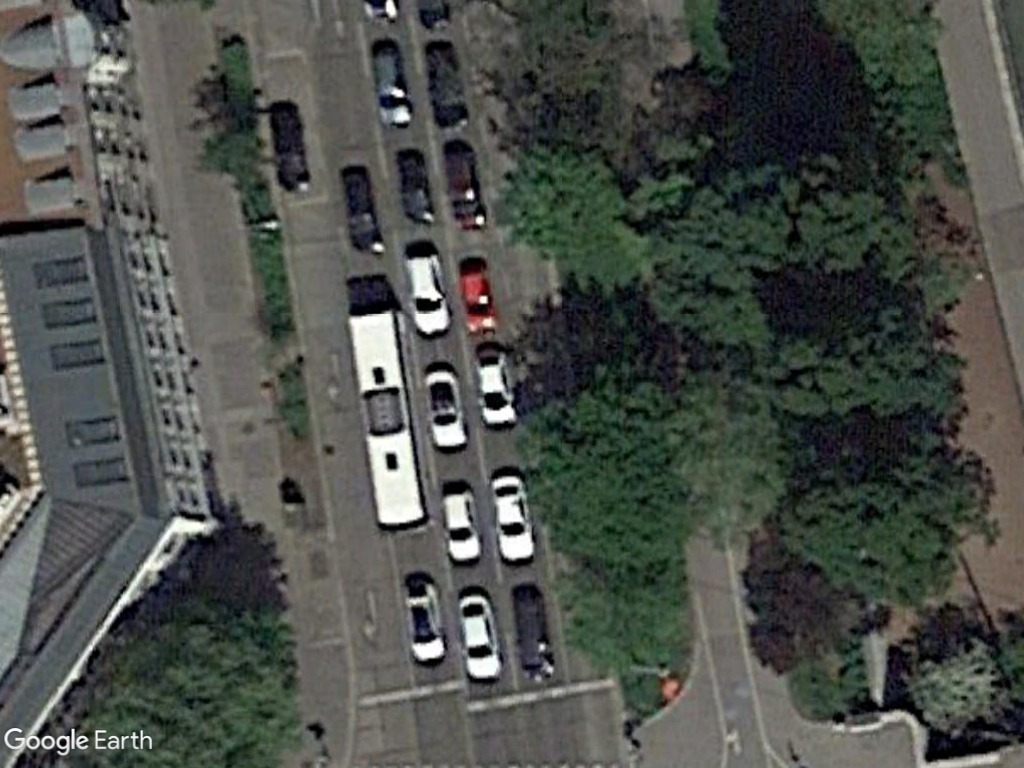bus: (342, 305, 435, 534)
car: (484, 470, 539, 568), (453, 589, 508, 686), (402, 249, 457, 341), (420, 366, 474, 455), (471, 344, 521, 433), (370, 43, 419, 133), (440, 484, 483, 570), (459, 260, 498, 334)
